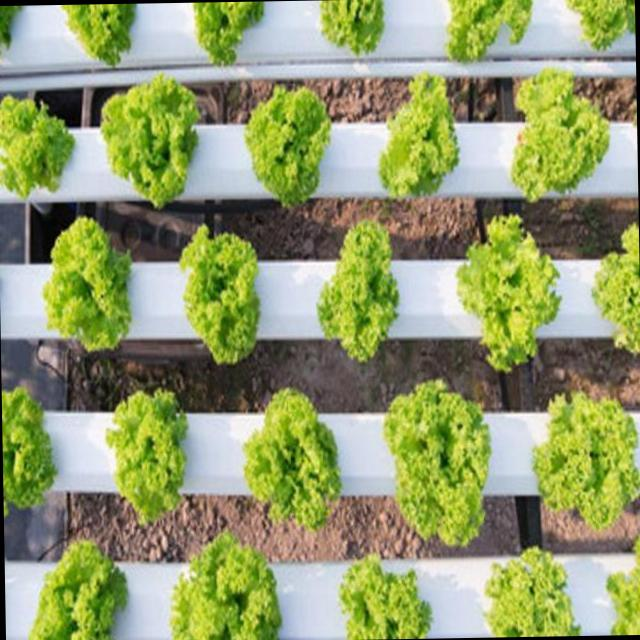Lettuce-Ready-to-Harvest: (383, 380, 491, 545), (457, 215, 560, 372), (534, 393, 640, 528), (243, 388, 340, 528), (100, 74, 198, 207), (510, 68, 608, 198), (170, 532, 280, 640), (42, 217, 131, 350), (317, 220, 398, 360), (180, 226, 260, 363), (106, 390, 187, 522), (244, 86, 330, 206), (28, 542, 127, 640), (379, 73, 457, 197), (486, 547, 579, 637), (340, 555, 430, 640), (0, 97, 74, 197), (1, 388, 54, 511), (593, 226, 640, 352), (448, 0, 531, 60), (194, 1, 262, 62), (65, 4, 134, 64), (320, 0, 384, 52), (607, 539, 640, 634), (570, 0, 635, 46), (0, 5, 15, 50)
